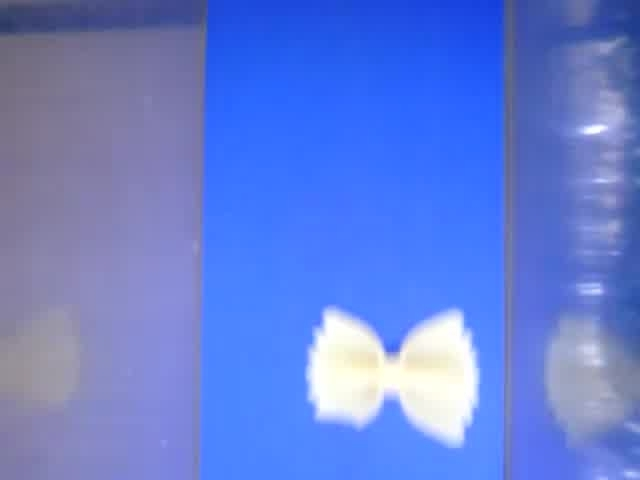farfalle: (307, 305, 480, 449)
